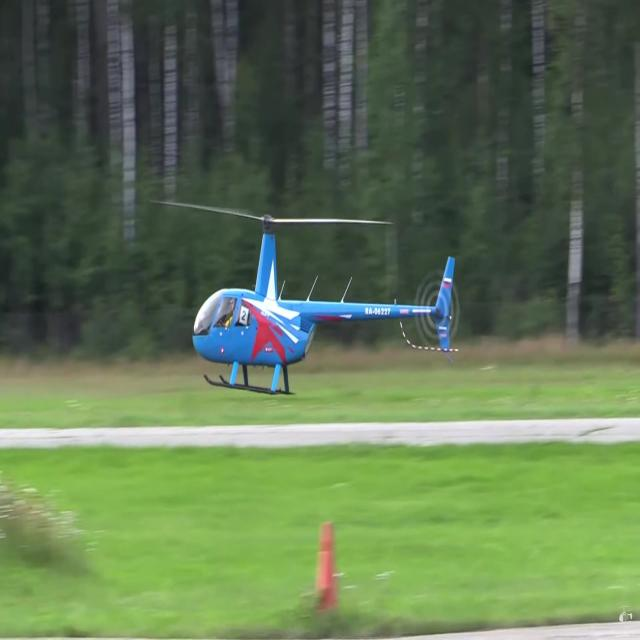CIV_HELO: (190, 211, 457, 401)
